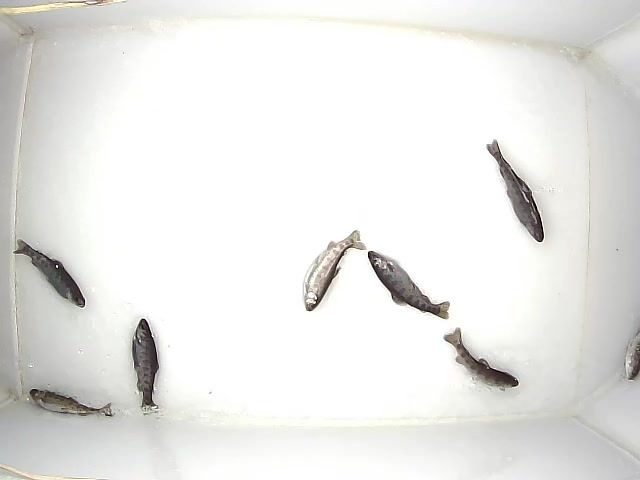fish: (486, 139, 544, 242), (367, 250, 450, 320), (303, 229, 367, 312), (13, 239, 85, 308), (443, 327, 519, 391), (132, 318, 159, 416), (29, 389, 115, 417)
